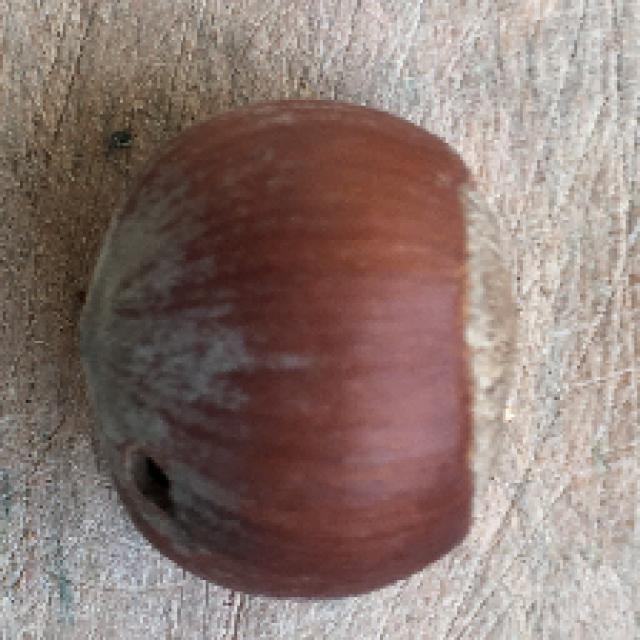damagedHazelnut: (70, 98, 536, 610)
